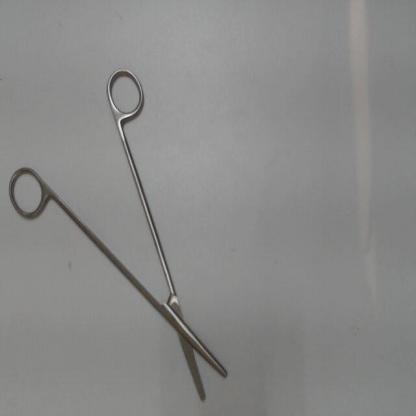9 Metzenbaum Scissors: (6, 59, 233, 406)
